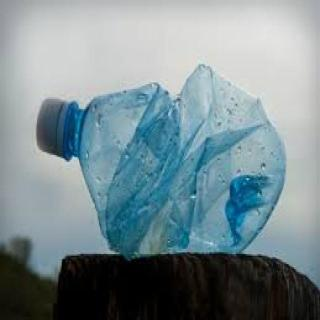Anorganik: (35, 59, 287, 265)
